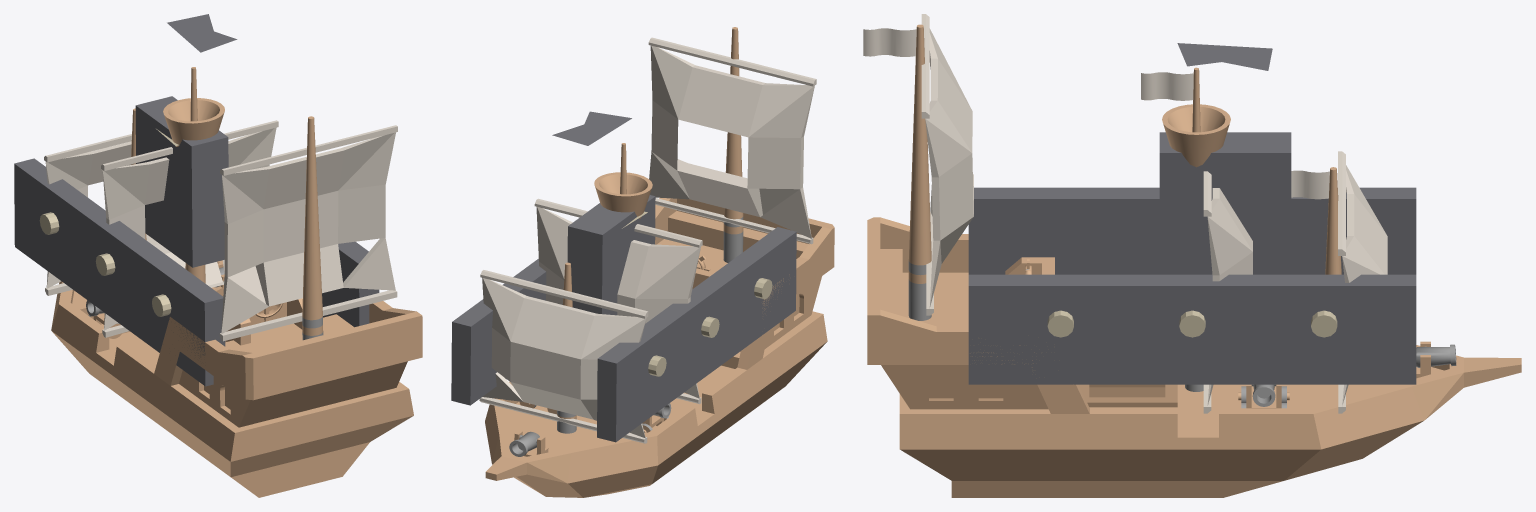
Rendered from ile_07_forteresse_flottante_anime.glb.
3 renders of one model, left to right at view 1: azimuth 30°, elevation 25°; view 2: azimuth 150°, elevation 25°; view 3: azimuth 270°, elevation 25°, orthographic. The views are drawn at different scales.
Parts seen in each view (by area): view 1: navire_pirate_clair_assimp, Plaque_Blindage, Tour_Centrale, Plaque_Blindage.001, Grand_Pavillon; view 2: navire_pirate_clair_assimp, Plaque_Blindage, Tour_Centrale, Plaque_Blindage.001, Grand_Pavillon; view 3: navire_pirate_clair_assimp, Plaque_Blindage.001, Plaque_Blindage, Tour_Centrale, Grand_Pavillon.
Boxes of the visible parts, x1,y1,x2,y2 form: navire_pirate_clair_assimp: (44,67,422,497); Plaque_Blindage: (14,158,225,386); Tour_Centrale: (135,96,228,267); Plaque_Blindage.001: (322,241,379,327); Grand_Pavillon: (167,14,237,52); navire_pirate_clair_assimp: (479,27,834,497); Plaque_Blindage: (597,227,796,442); Tour_Centrale: (567,195,655,315); Plaque_Blindage.001: (451,258,546,405); Grand_Pavillon: (552,111,631,145); navire_pirate_clair_assimp: (863,14,1521,497); Plaque_Blindage.001: (968,274,1416,384); Plaque_Blindage: (968,187,1416,274); Tour_Centrale: (1159,132,1291,274); Grand_Pavillon: (1177,43,1272,70).
Bounding box in the file's own units: 34.41 × 65.53 × 87.46.
